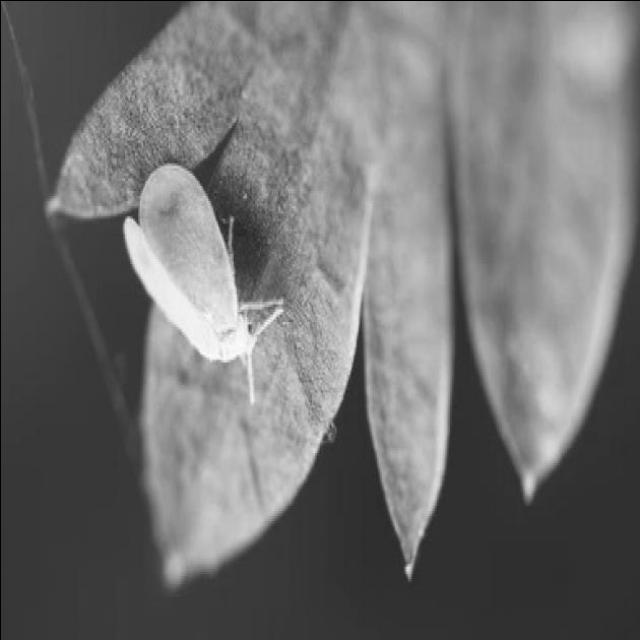Whitefly: (111, 147, 288, 412)
